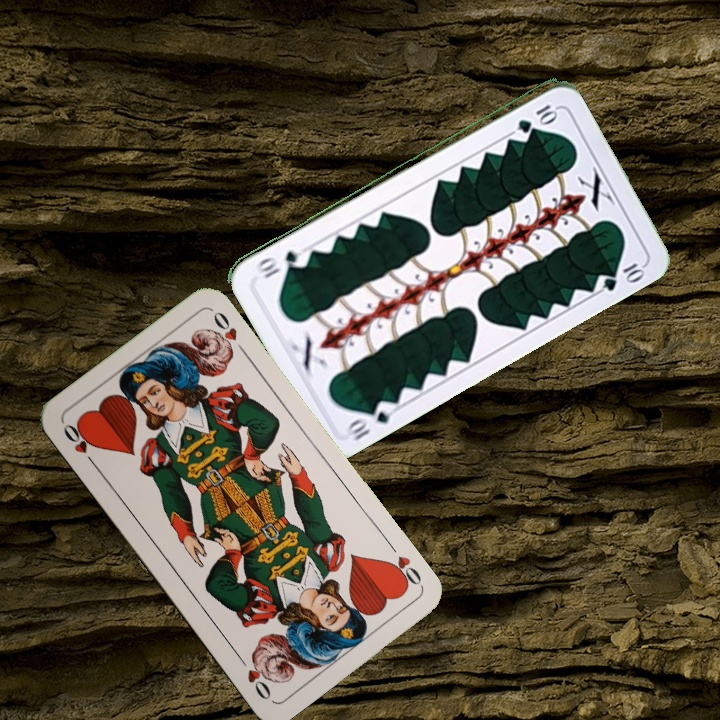G10: (344, 396, 399, 443), (513, 100, 559, 133)
HO: (382, 538, 425, 592), (59, 418, 100, 470)
